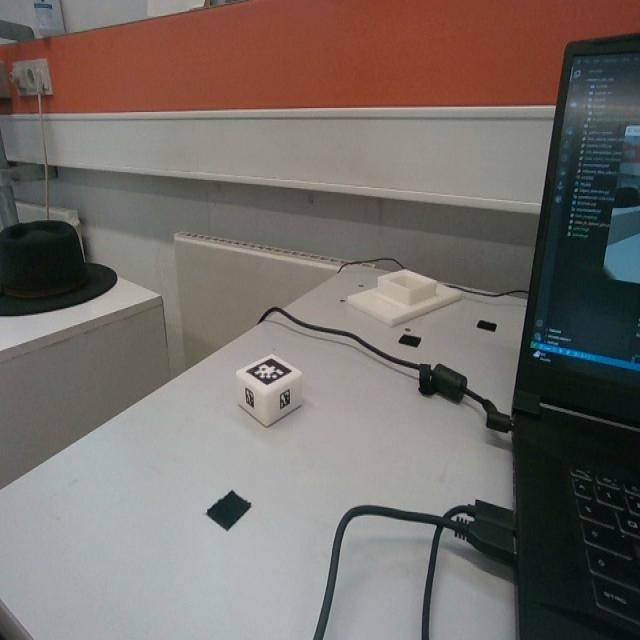Cube: (234, 350, 302, 426)
